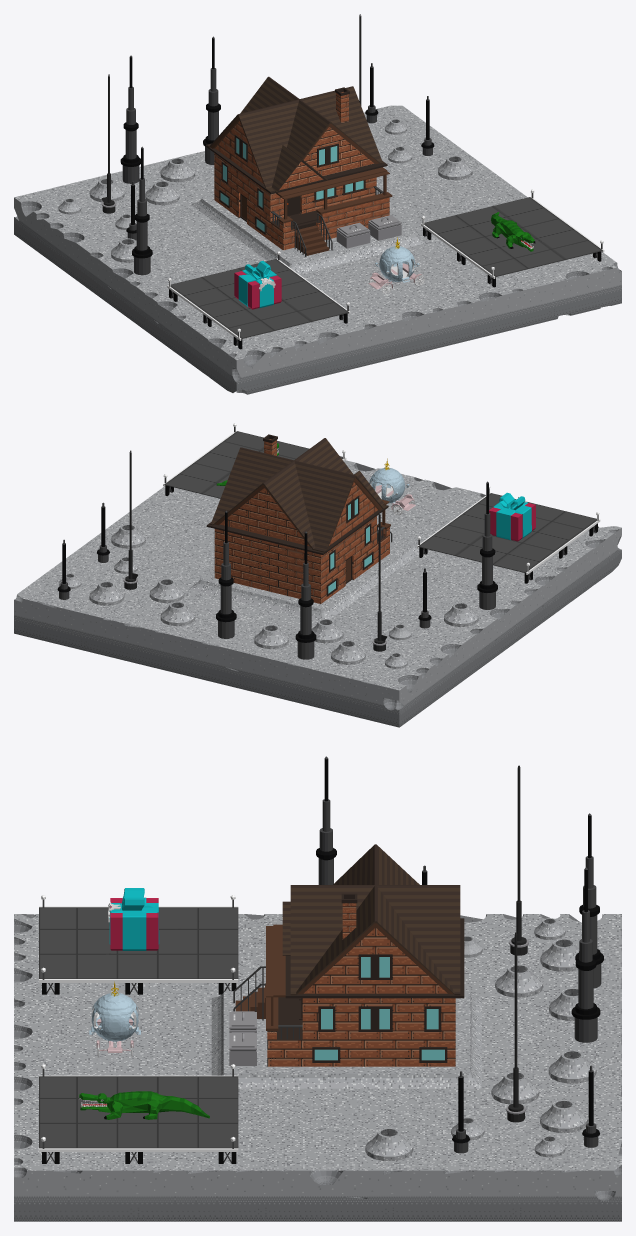
3 renders of one model, top to bottom at view 1: azimuth 30°, elevation 25°; view 2: azimuth 150°, elevation 25°; view 3: azimuth 270°, elevation 25°, orthographic. The views are drawn at different scales.
Visible parts, largest first — view 1: Cube.027, Cube.469, Cube.026, Cube.025, Cube.028, OBJRANDOM_GIANT_PRESENT, VEHICLES_FANTASY_CARRIAGE, Cylinder.020, Cylinder.021, Cylinder.017, ANIMAL_COCODRILO, Cube.029 (+5 smaller); view 2: Cube.027, Cube.469, Cube.025, Cube.028, Cube.026, OBJRANDOM_GIANT_PRESENT, Cylinder.020, VEHICLES_FANTASY_CARRIAGE, Cylinder.021, Cylinder.017, Cylinder.031, Cylinder.028 (+8 smaller); view 3: Cube.027, Cube.469, Cube.026, Cube.025, Cube.028, OBJRANDOM_GIANT_PRESENT, Cylinder.017, ANIMAL_COCODRILO, VEHICLES_FANTASY_CARRIAGE, Cylinder.020, Cylinder.021, Cylinder.033 (+11 smaller).
Boxes of the visible parts, x1,y1,x2,y2 form: Cube.027: [14, 105, 621, 394]; Cube.469: [205, 76, 392, 256]; Cube.026: [421, 189, 604, 287]; Cube.025: [167, 251, 350, 349]; Cube.028: [191, 195, 424, 274]; OBJRANDOM_GIANT_PRESENT: [234, 261, 281, 309]; VEHICLES_FANTASY_CARRIAGE: [368, 237, 424, 293]; Cylinder.020: [120, 55, 140, 183]; Cylinder.021: [132, 146, 152, 275]; Cylinder.017: [203, 36, 220, 164]; ANIMAL_COCODRILO: [491, 212, 535, 251]; Cube.029: [336, 222, 370, 248]; Cube.027: [14, 460, 621, 727]; Cube.469: [206, 434, 392, 603]; Cube.025: [417, 485, 600, 583]; Cube.028: [190, 538, 419, 620]; Cube.026: [163, 423, 346, 498]; OBJRANDOM_GIANT_PRESENT: [489, 492, 535, 541]; Cylinder.020: [295, 531, 316, 659]; VEHICLES_FANTASY_CARRIAGE: [369, 458, 415, 515]; Cylinder.021: [477, 481, 497, 609]; Cylinder.017: [216, 510, 236, 638]; Cylinder.031: [89, 581, 124, 605]; Cylinder.028: [331, 640, 365, 664]; Cube.027: [14, 914, 621, 1221]; Cube.469: [233, 844, 464, 1066]; Cube.026: [39, 1064, 238, 1163]; Cube.025: [39, 895, 238, 994]; Cube.028: [211, 991, 481, 1088]; OBJRANDOM_GIANT_PRESENT: [108, 888, 159, 950]; Cylinder.017: [571, 867, 600, 1042]; ANIMAL_COCODRILO: [79, 1091, 209, 1119]; VEHICLES_FANTASY_CARRIAGE: [89, 981, 140, 1057]; Cylinder.020: [575, 813, 603, 988]; Cylinder.021: [316, 756, 336, 884]; Cylinder.033: [365, 1128, 413, 1160].
Size of the model in its own units: 4000 by 1815 by 4000.
30 materials, 5 textured.
